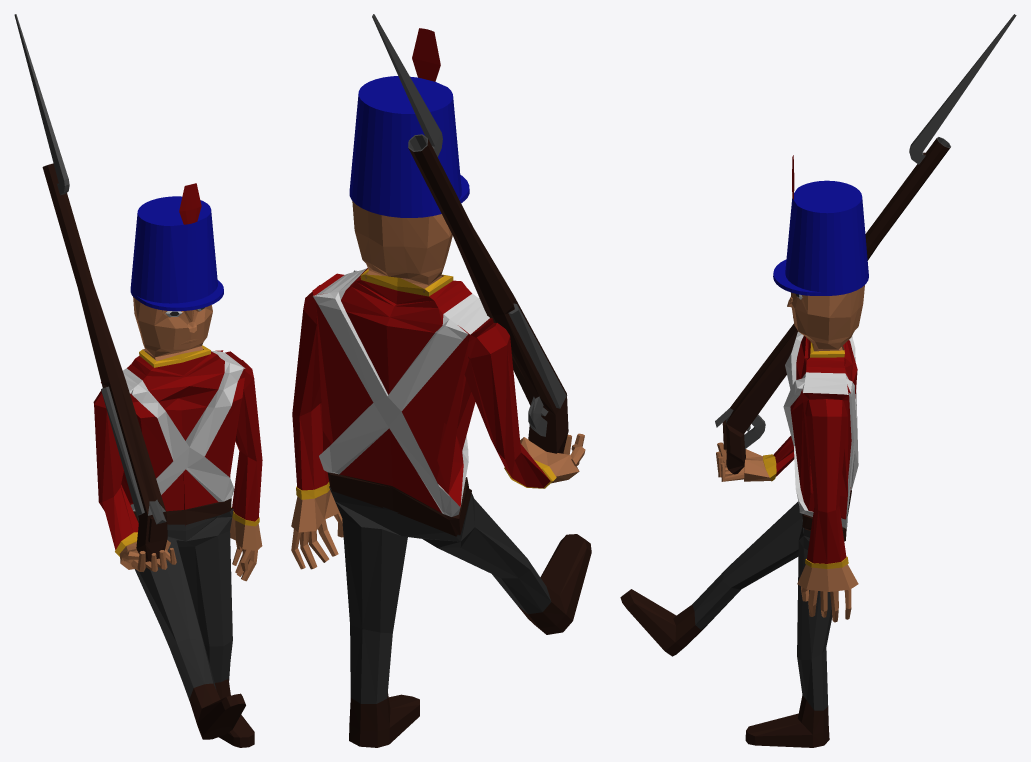
Rendered from Infantry_000177.obj.
The picture shows the model from 3 angles, left to right: view 1: azimuth 30°, elevation 25°; view 2: azimuth 150°, elevation 25°; view 3: azimuth 270°, elevation 25°; orthographic projection. The views are drawn at different scales.
Visible parts, largest first — view 1: {Man}_Circle, {Mesket}_Cube.001; view 2: {Man}_Circle, {Mesket}_Cube.001; view 3: {Man}_Circle, {Mesket}_Cube.001.
Boxes of the visible parts, x1=… form: {Man}_Circle: x1=93, y1=183, x2=262, y2=747; {Mesket}_Cube.001: x1=14, y1=14, x2=167, y2=561; {Man}_Circle: x1=291, y1=28, x2=591, y2=747; {Mesket}_Cube.001: x1=372, y1=14, x2=568, y2=453; {Man}_Circle: x1=620, y1=155, x2=868, y2=747; {Mesket}_Cube.001: x1=715, y1=14, x2=1016, y2=474.
Bounding box in the file's own units: 5.63 × 19.62 × 10.41.
